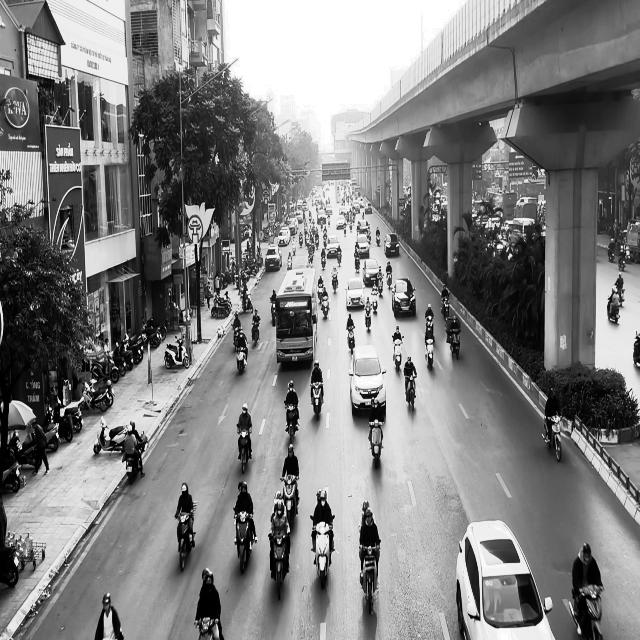car: (455, 519, 556, 640), (348, 344, 387, 415), (391, 277, 416, 317), (344, 276, 365, 308), (265, 246, 282, 272), (384, 233, 400, 256)
motorbike: (568, 584, 604, 639), (310, 517, 332, 590), (268, 532, 290, 600), (233, 507, 255, 574), (360, 543, 380, 614), (174, 508, 196, 571), (124, 431, 148, 483), (280, 474, 299, 526), (542, 414, 562, 462), (164, 336, 190, 370), (368, 418, 384, 469), (236, 424, 252, 474), (284, 402, 298, 447), (194, 617, 220, 639), (310, 382, 323, 421), (404, 373, 416, 411), (392, 335, 404, 371), (236, 343, 248, 374), (424, 336, 434, 370), (231, 323, 241, 348), (251, 320, 260, 347), (320, 294, 330, 318), (347, 327, 355, 354), (364, 305, 371, 330), (331, 270, 338, 293), (270, 300, 276, 326)
truck: (275, 267, 318, 367)
